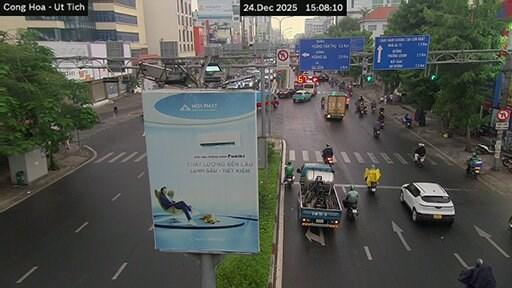motorbike: (475, 139, 496, 155), (468, 161, 482, 178), (347, 204, 358, 220), (502, 154, 511, 171), (283, 175, 294, 188), (414, 154, 424, 167), (402, 116, 411, 128), (367, 182, 376, 193), (324, 156, 333, 166), (373, 129, 380, 138), (371, 104, 376, 113), (321, 100, 324, 108), (509, 216, 511, 228)
